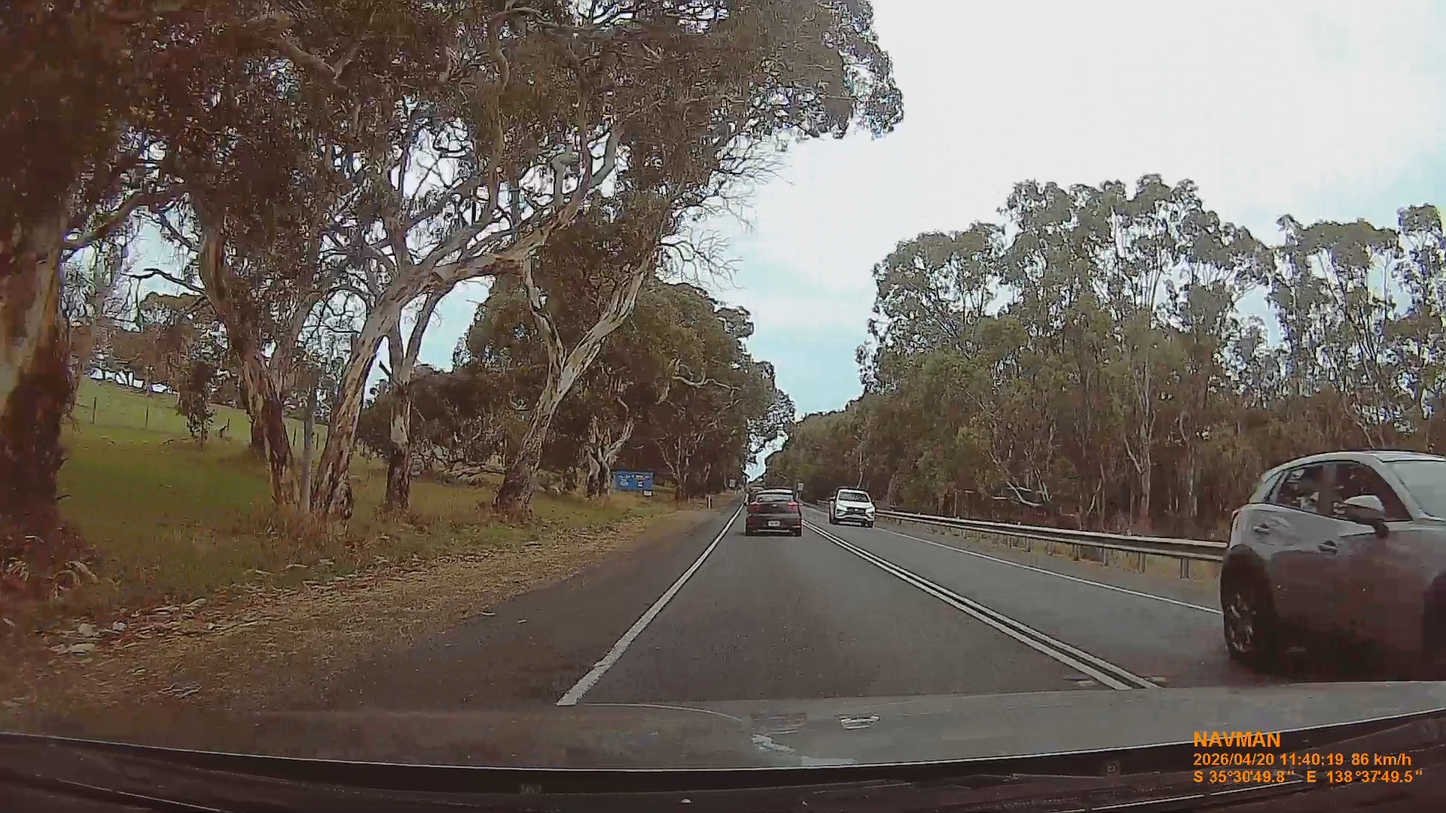road barriers: (880, 512, 1223, 580)
